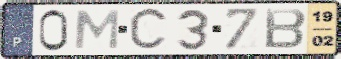0: (38, 8, 70, 52)
3: (174, 7, 211, 52)
7: (224, 7, 262, 52)
B: (263, 7, 308, 50)
C: (127, 6, 170, 54)
M: (72, 9, 121, 51)
